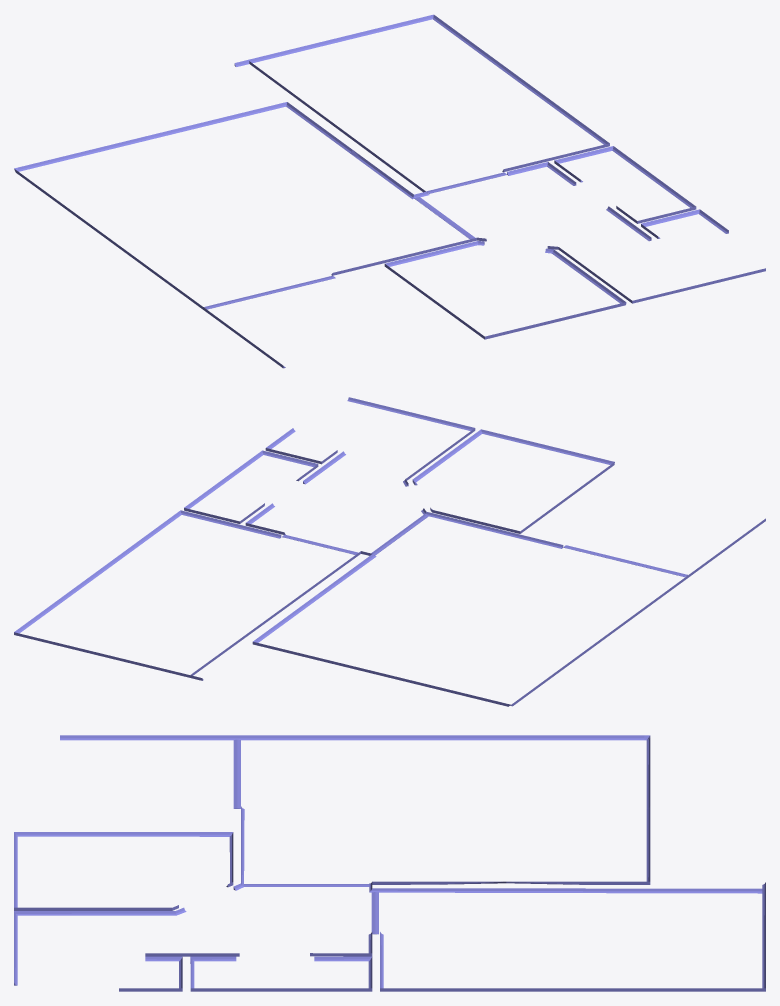
The model's file is Fussleisten.fbx.
The picture shows the model from 3 angles, top to bottom: view 1: azimuth 30°, elevation 25°; view 2: azimuth 150°, elevation 25°; view 3: azimuth 270°, elevation 25°; orthographic projection. The views are drawn at different scales.
Visible parts, largest first — view 1: Fussleisten; view 2: Fussleisten; view 3: Fussleisten.
Boxes of the visible parts, x1,y1,x2,y2 form: Fussleisten: [14, 14, 765, 368]; Fussleisten: [14, 397, 765, 706]; Fussleisten: [14, 735, 765, 991].
Bounding box in the file's own units: 775 × 5.19 × 974.
